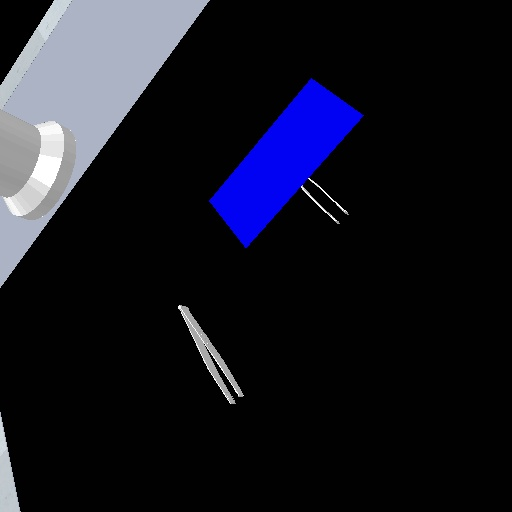pinza: (175, 301, 247, 407), (299, 173, 353, 227)
